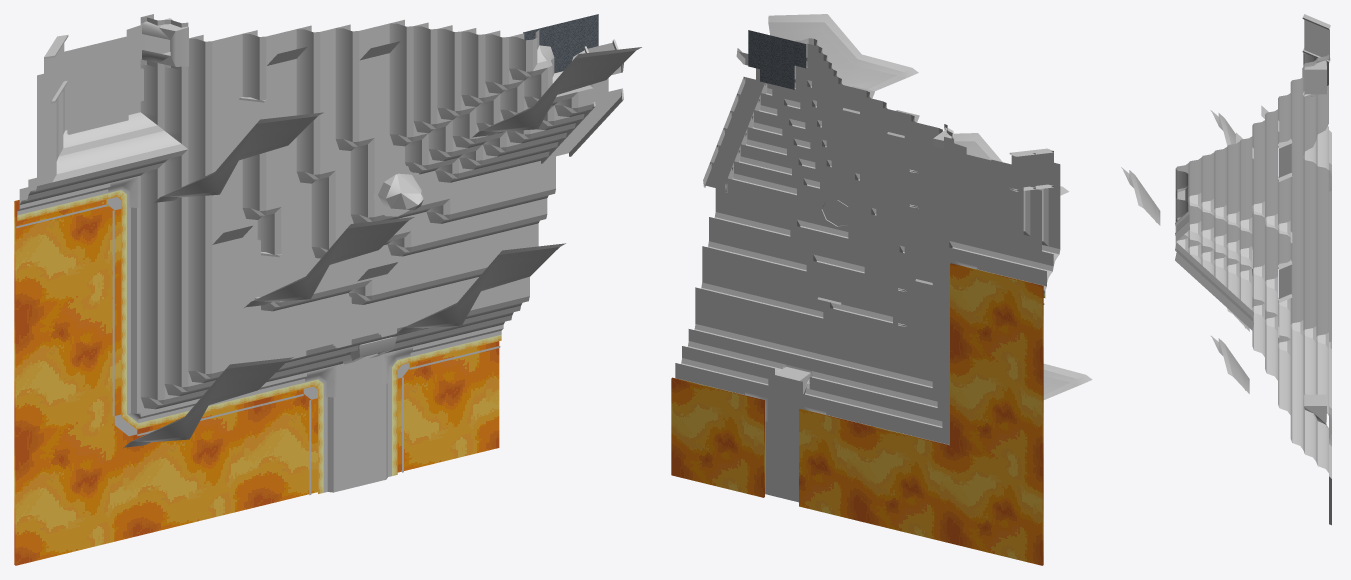
Rendered from Mount-Undara-1_02_02.obj.
The picture shows the model from 3 angles, left to right: view 1: azimuth 30°, elevation 25°; view 2: azimuth 150°, elevation 25°; view 3: azimuth 270°, elevation 25°; orthographic projection. The views are drawn at different scales.
Parts seen in each view (by area): view 1: map; view 2: map; view 3: map.
Part boxes in pixels (x1,y1,x2,y2): map: [14, 14, 641, 565]; map: [671, 14, 1092, 565]; map: [1121, 14, 1331, 525].
Bounding box in the file's own units: 33 × 33 × 16.9.
